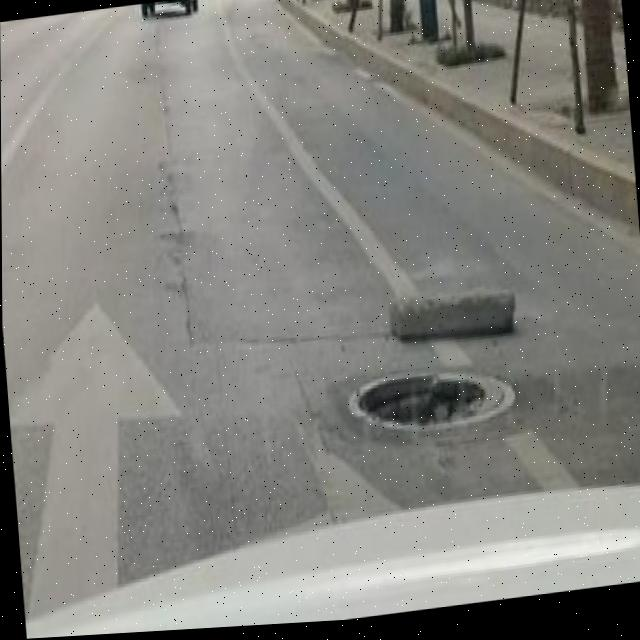manhole: (338, 344, 515, 454)
